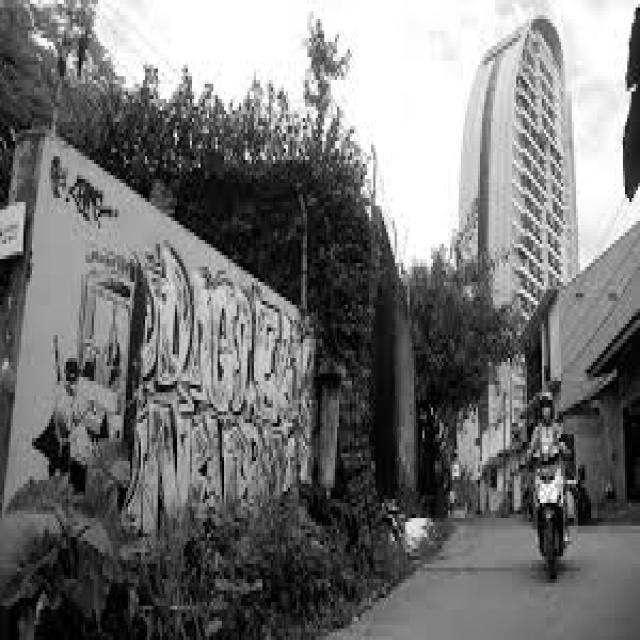-: (28, 243, 310, 519), (48, 152, 122, 232)
